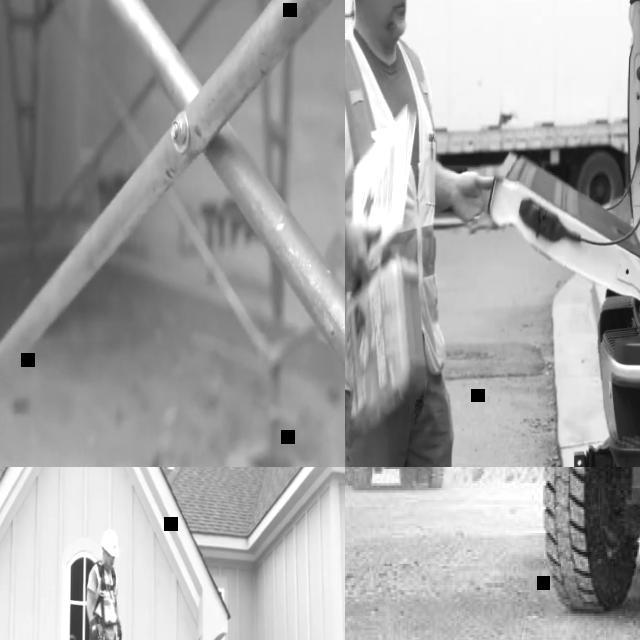helmet: (102, 529, 120, 556)
vest: (345, 26, 452, 382), (92, 562, 119, 623)
